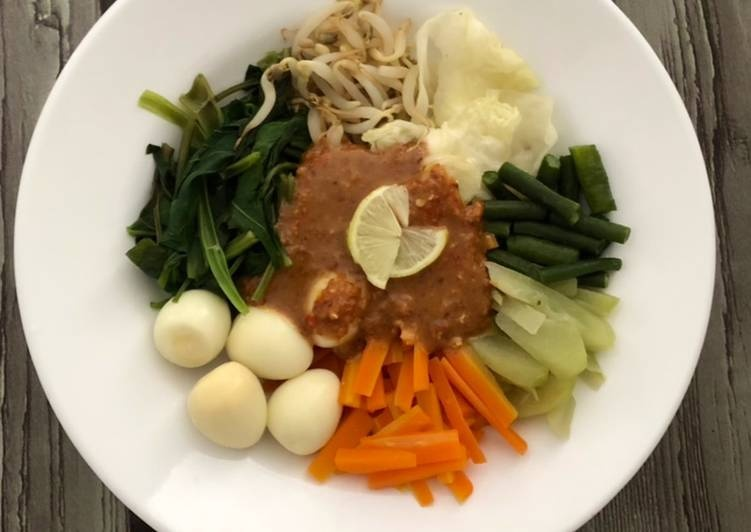pecel: (107, 16, 652, 443)
